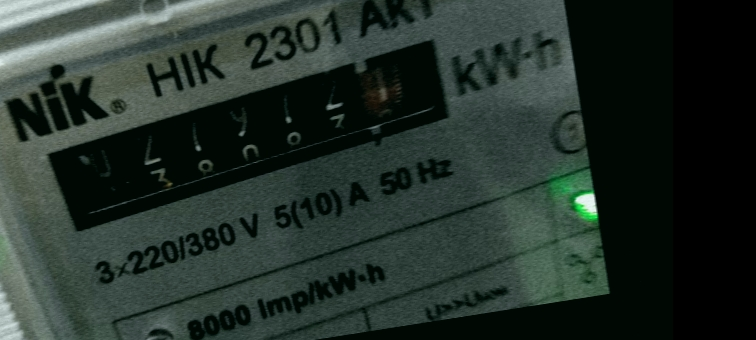0: (83, 142, 116, 181)
1: (366, 61, 395, 107)
2: (130, 125, 164, 168), (314, 72, 347, 113)
7: (268, 85, 300, 129), (179, 115, 207, 155)
9: (224, 101, 255, 139)
screen: (20, 24, 490, 246)
